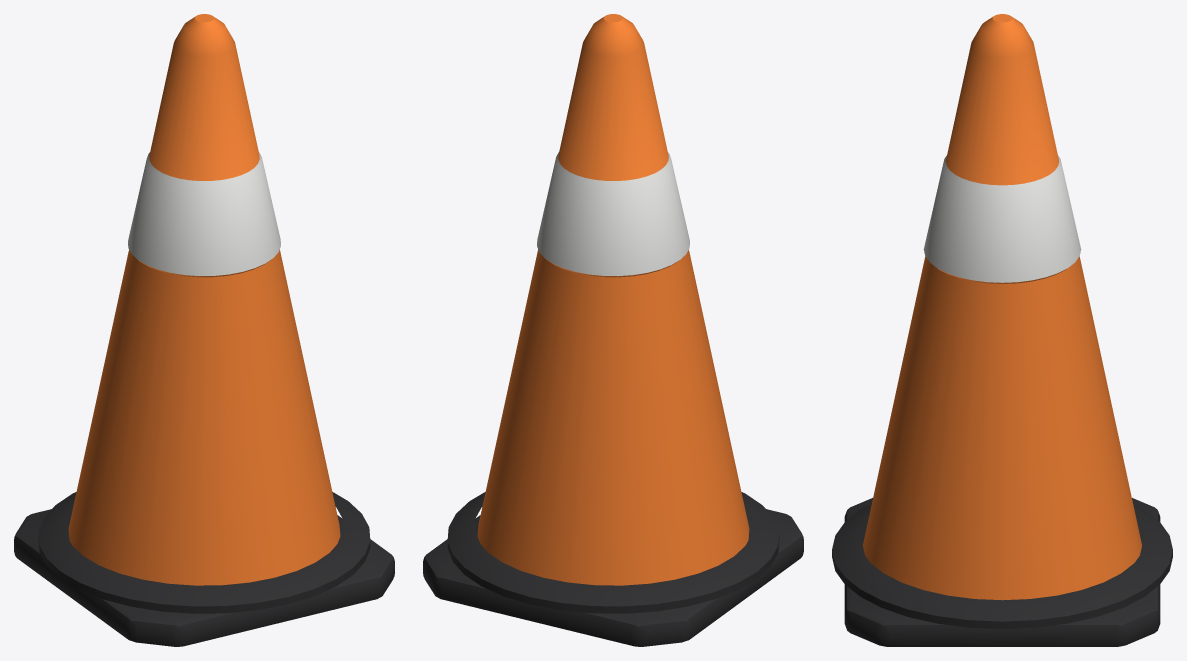
File: TrafficCone.fbx
3 renders of one model, left to right at view 1: azimuth 30°, elevation 25°; view 2: azimuth 150°, elevation 25°; view 3: azimuth 270°, elevation 25°, orthographic. The views are drawn at different scales.
Visible parts, largest first — view 1: TrafficCone_Mesh; view 2: TrafficCone_Mesh; view 3: TrafficCone_Mesh.
Part boxes in pixels (left/top/right/bottom): TrafficCone_Mesh: left=14, top=14, right=394, bottom=646; TrafficCone_Mesh: left=423, top=14, right=803, bottom=646; TrafficCone_Mesh: left=832, top=14, right=1172, bottom=646.
Bounding box in the file's own units: 0.41 × 0.75 × 0.41.
